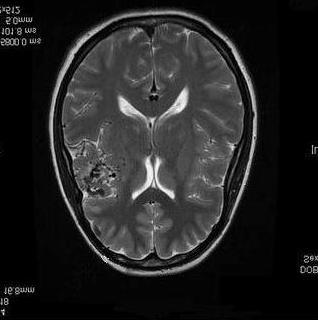Normal_Brain: (1, 1, 315, 320)
